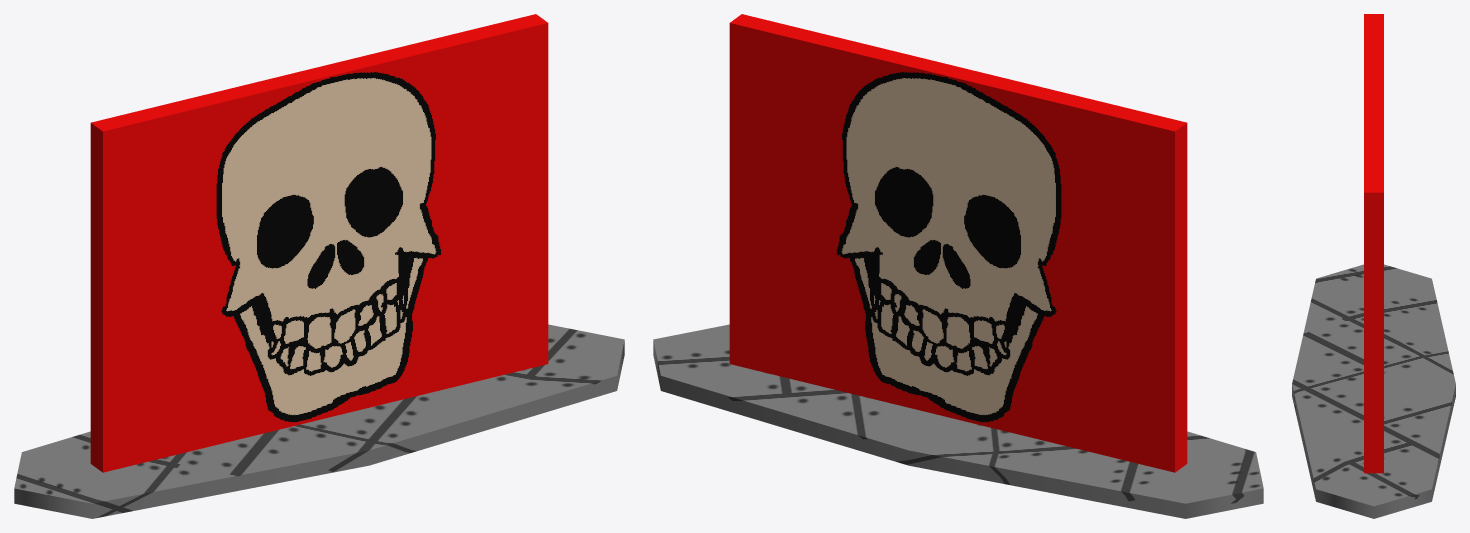
File: burke_lever1.fbx
3 renders of one model, left to right at view 1: azimuth 30°, elevation 25°; view 2: azimuth 150°, elevation 25°; view 3: azimuth 270°, elevation 25°, orthographic. The views are drawn at different scales.
Visible parts, largest first — view 1: dislpay_mb, platform_mb; view 2: dislpay_mb, platform_mb; view 3: platform_mb, dislpay_mb.
Boxes of the visible parts, x1,y1,x2,y2 form: dislpay_mb: (90, 14, 548, 472); platform_mb: (14, 324, 624, 518); dislpay_mb: (729, 14, 1187, 472); platform_mb: (653, 324, 1263, 518); platform_mb: (1292, 264, 1455, 518); dislpay_mb: (1364, 14, 1383, 473).
Bounding box in the file's own units: 2.72 × 1.52 × 0.7685.
